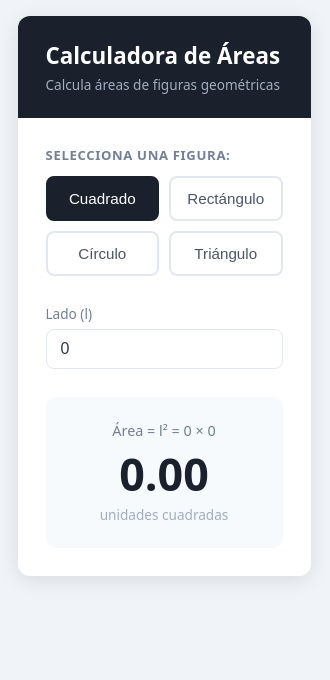
Scenario: Calculadora de Áreas › debe mostrar dos inputs cuando se selecciona Triángulo
What coordinates should you click on to do the following:
click the button "Triángulo"
I would click on:
 (226, 254)
Its box is [169, 231, 282, 276].
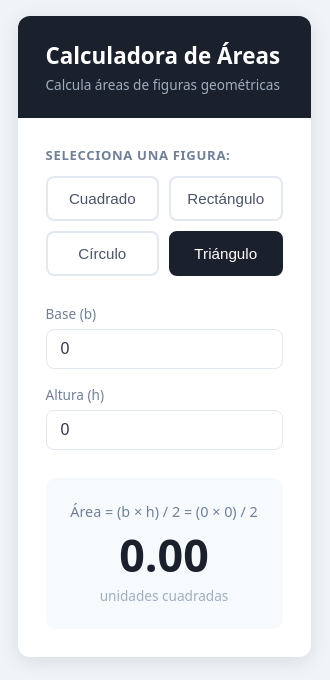
Check: the number of number fields is 2, box [46, 329, 282, 369]; [46, 410, 282, 450]
